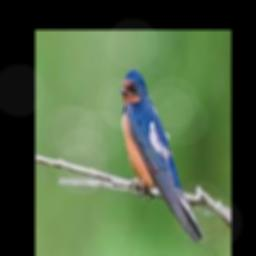Swallow: (120, 71, 202, 242)
